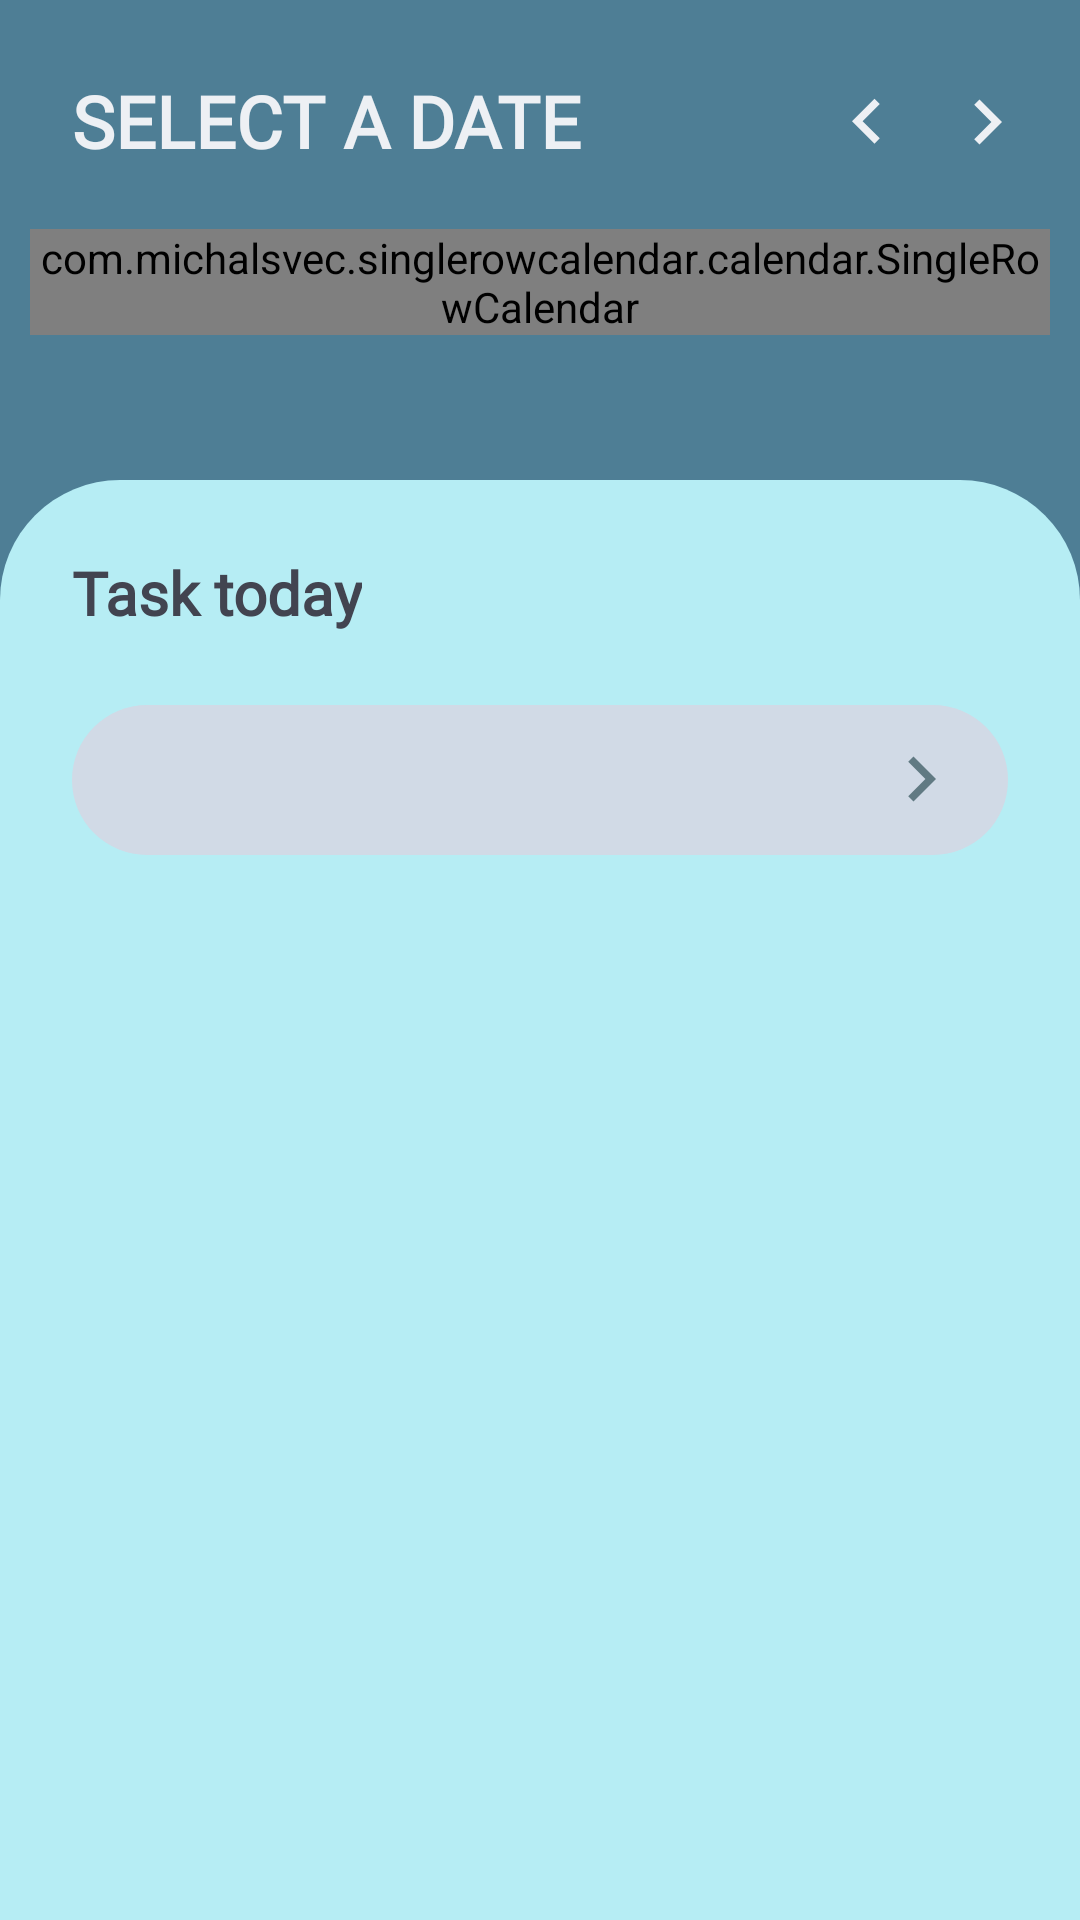

Where to tap for icons on this 1080w x 1920h app screen, as (x,y):
arrow left: (866,121)
arrow right: (988,122), (922,779)
